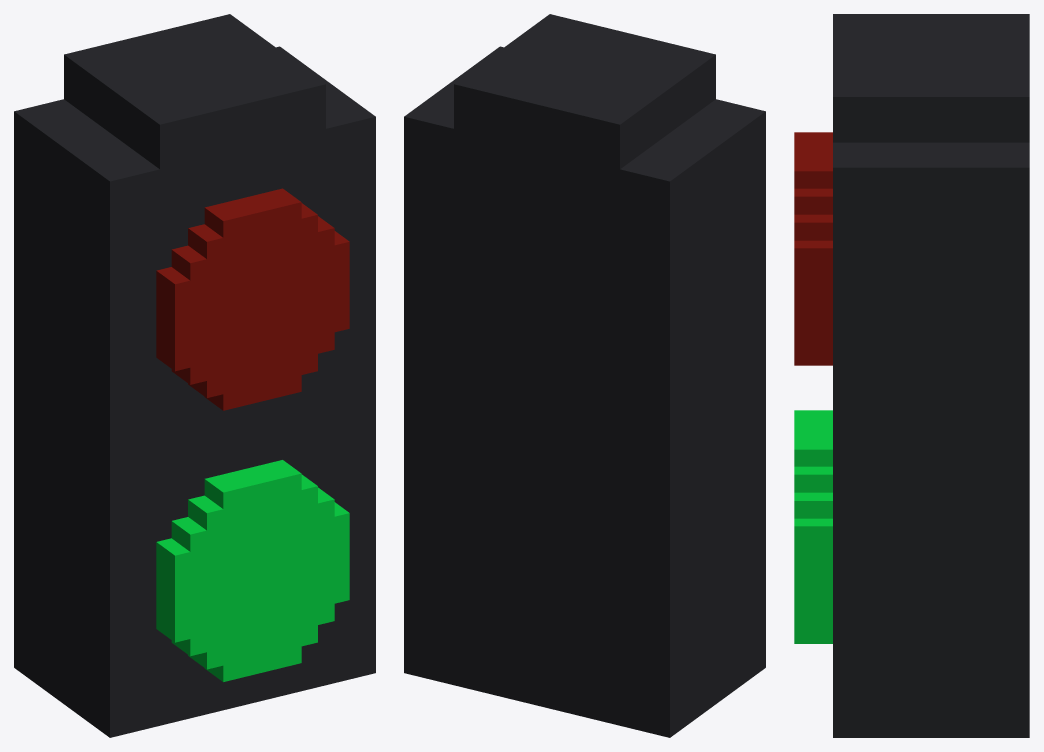
Rendered from Trafic_light.FBX.
3 renders of one model, left to right at view 1: azimuth 30°, elevation 25°; view 2: azimuth 150°, elevation 25°; view 3: azimuth 270°, elevation 25°, orthographic. The views are drawn at different scales.
Parts seen in each view (by area): view 1: Box078, train_extra_nose_part009, train_extra_nose_part008; view 2: Box078; view 3: Box078, train_extra_nose_part008, train_extra_nose_part009.
Part boxes in pixels (x1,y1,x2,y2): Box078: (14,14,375,737); train_extra_nose_part009: (156,188,349,410); train_extra_nose_part008: (156,460,349,681); Box078: (404,14,765,737); Box078: (833,14,1029,737); train_extra_nose_part008: (794,410,832,643); train_extra_nose_part009: (794,132,832,365).
Size of the model in its own units: 15.75 by 34.02 by 11.77.
